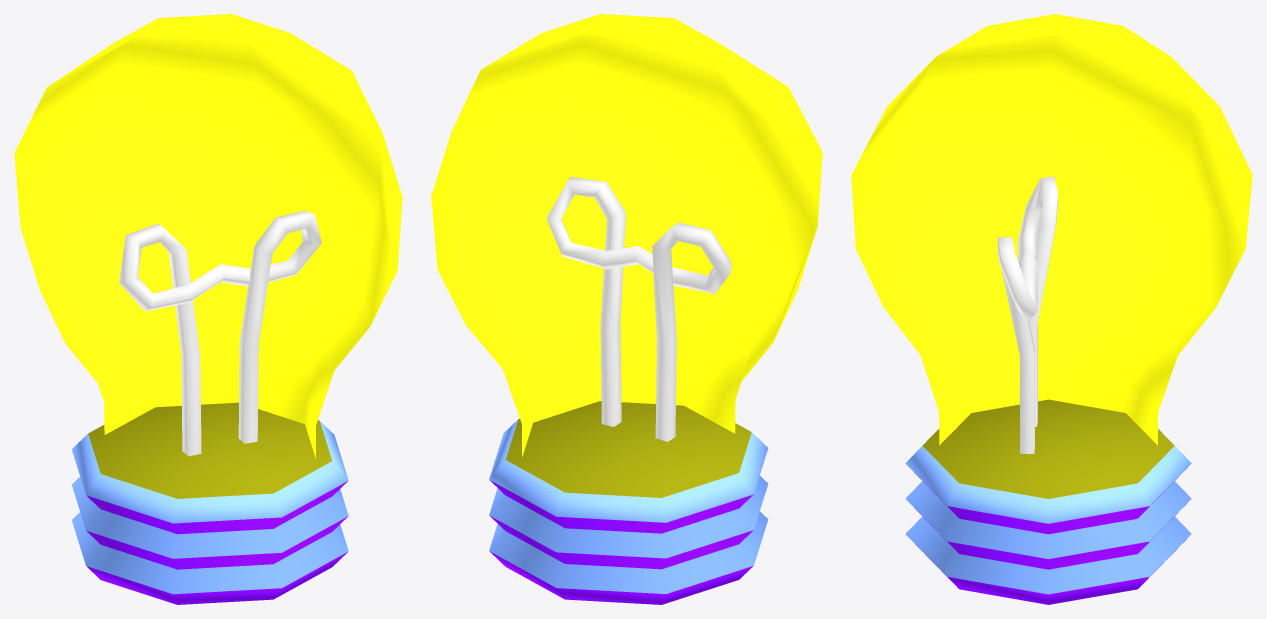
File: cocobay_env_lamp.gltf
3 views of the same model, side by side, from view 1: azimuth 30°, elevation 25°; view 2: azimuth 150°, elevation 25°; view 3: azimuth 270°, elevation 25° (orthographic).
Visible parts, largest first — view 1: cocobay_env_lamp_glb; view 2: cocobay_env_lamp_glb; view 3: cocobay_env_lamp_glb.
Part boxes in pixels (box(x1,y1,x2,y2)): cocobay_env_lamp_glb: box(14, 14, 402, 604); cocobay_env_lamp_glb: box(431, 14, 822, 604); cocobay_env_lamp_glb: box(851, 14, 1252, 604).
Size of what is drawn, in the model's own units: 1.71 by 2.43 by 1.71.
Materials: 3 (3 with a texture image).
